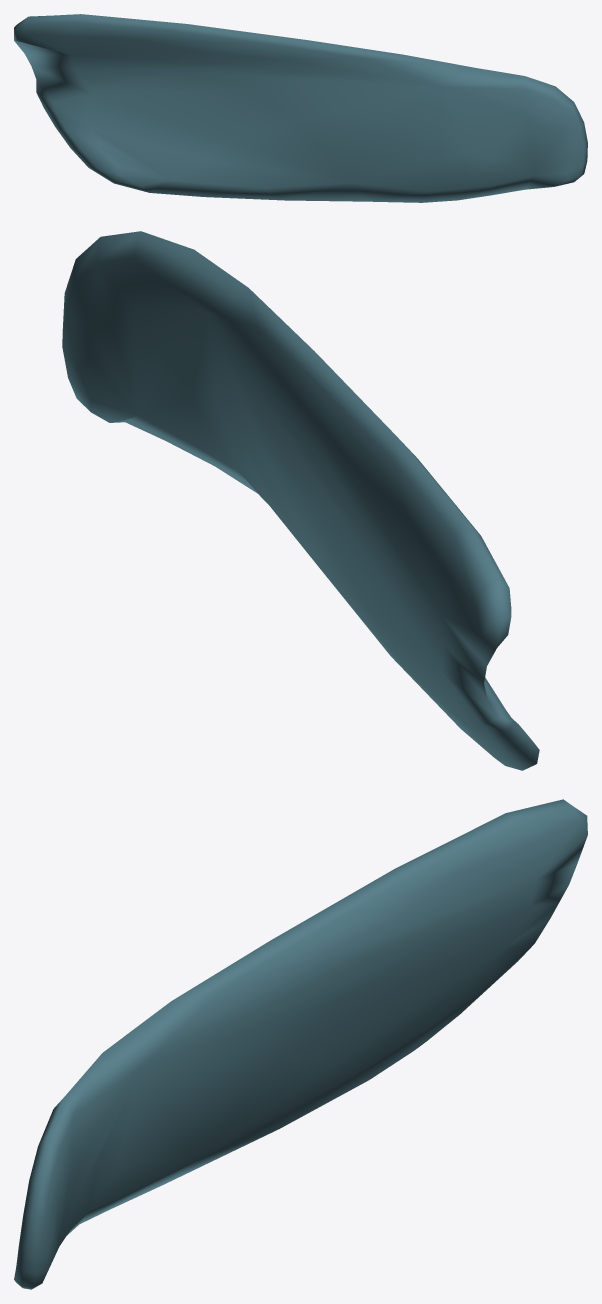
Rendered from Anterior_belly_of_digastric_muscle_on_mandible.r_Generated_Mesh.glb.
3 renders of one model, top to bottom at view 1: azimuth 30°, elevation 25°; view 2: azimuth 150°, elevation 25°; view 3: azimuth 270°, elevation 25°, orthographic. The views are drawn at different scales.
Parts seen in each view (by area): view 1: Anterior_belly_of_digastric_muscle_on_mandible.r_Generated_M; view 2: Anterior_belly_of_digastric_muscle_on_mandible.r_Generated_M; view 3: Anterior_belly_of_digastric_muscle_on_mandible.r_Generated_M.
Part boxes in pixels (bbox=[...]): Anterior_belly_of_digastric_muscle_on_mandible.r_Generated_M: bbox=[14, 14, 587, 202]; Anterior_belly_of_digastric_muscle_on_mandible.r_Generated_M: bbox=[62, 231, 539, 770]; Anterior_belly_of_digastric_muscle_on_mandible.r_Generated_M: bbox=[14, 799, 587, 1289].
Size of the model in its own units: 0.0109 by 0.00402 by 0.00866.
